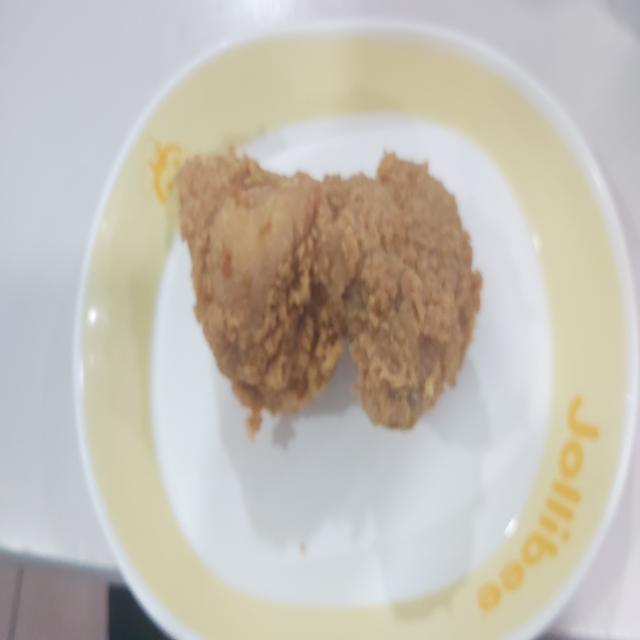Chicken -Fried Chicken-: (175, 130, 490, 438)
